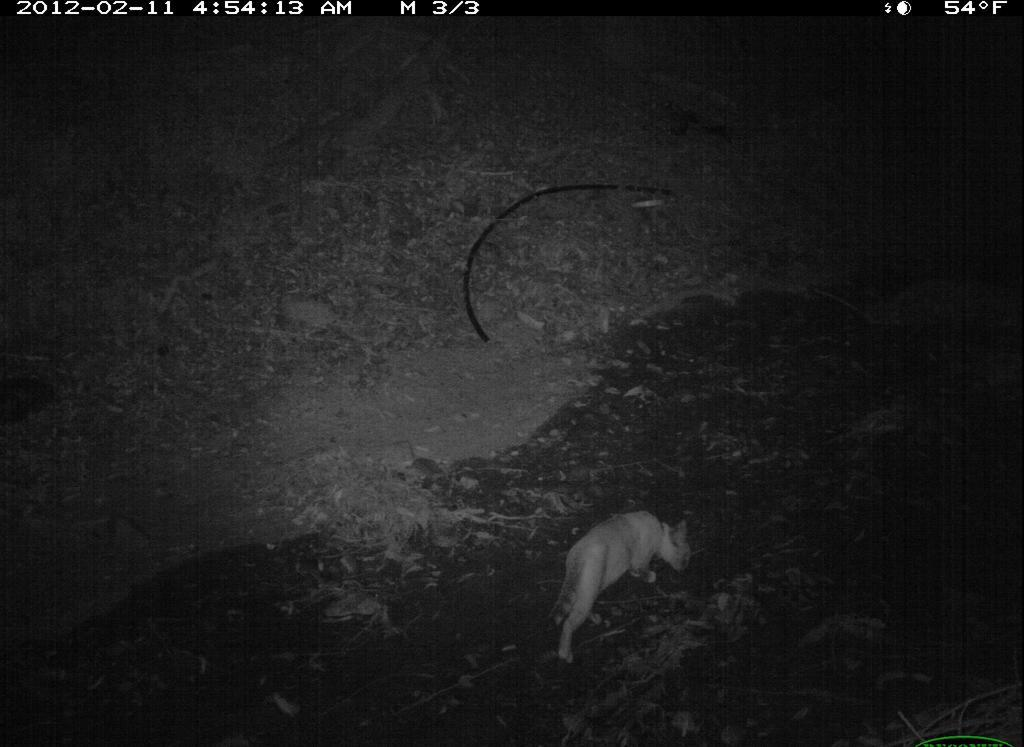cat: (545, 506, 701, 669)
